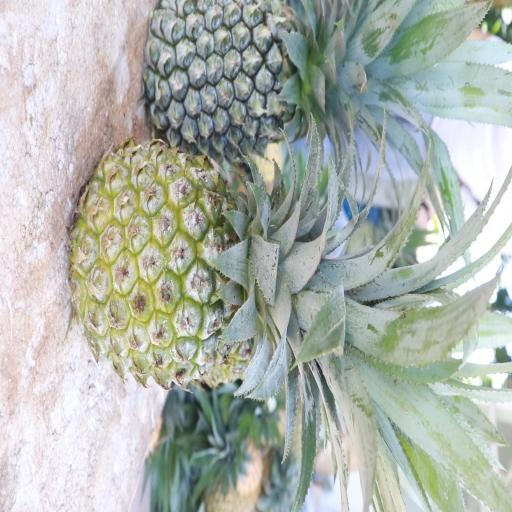------------------------------: (64, 136, 362, 397)
